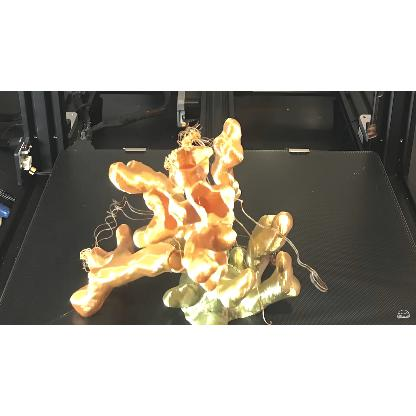fail: (88, 194, 150, 224), (82, 226, 113, 244)
